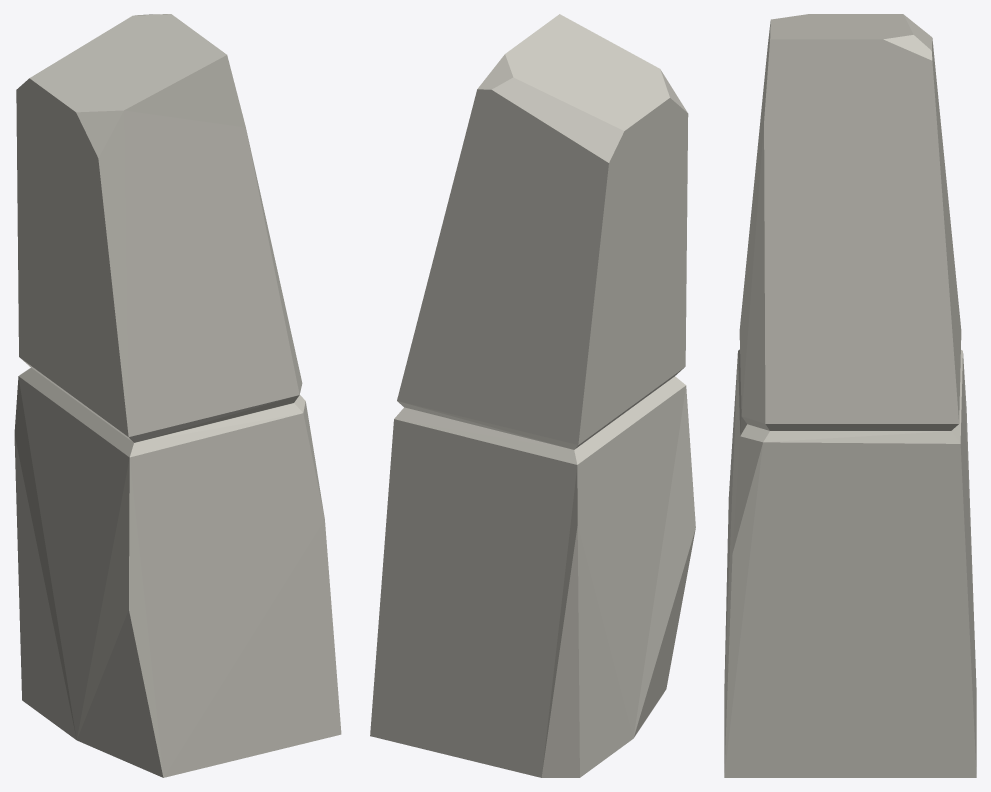
The model's file is Rock_Square_l_11.fbx.
The picture shows the model from 3 angles, left to right: view 1: azimuth 30°, elevation 25°; view 2: azimuth 150°, elevation 25°; view 3: azimuth 270°, elevation 25°; orthographic projection. The views are drawn at different scales.
Parts seen in each view (by area): view 1: Rock_Square_l_11; view 2: Rock_Square_l_11; view 3: Rock_Square_l_11.
Boxes of the visible parts, <box> form: Rock_Square_l_11: <box>14,14,341,777</box>; Rock_Square_l_11: <box>370,14,695,777</box>; Rock_Square_l_11: <box>724,14,976,777</box>.
Size of the model in its own units: 135 by 396 by 131.
